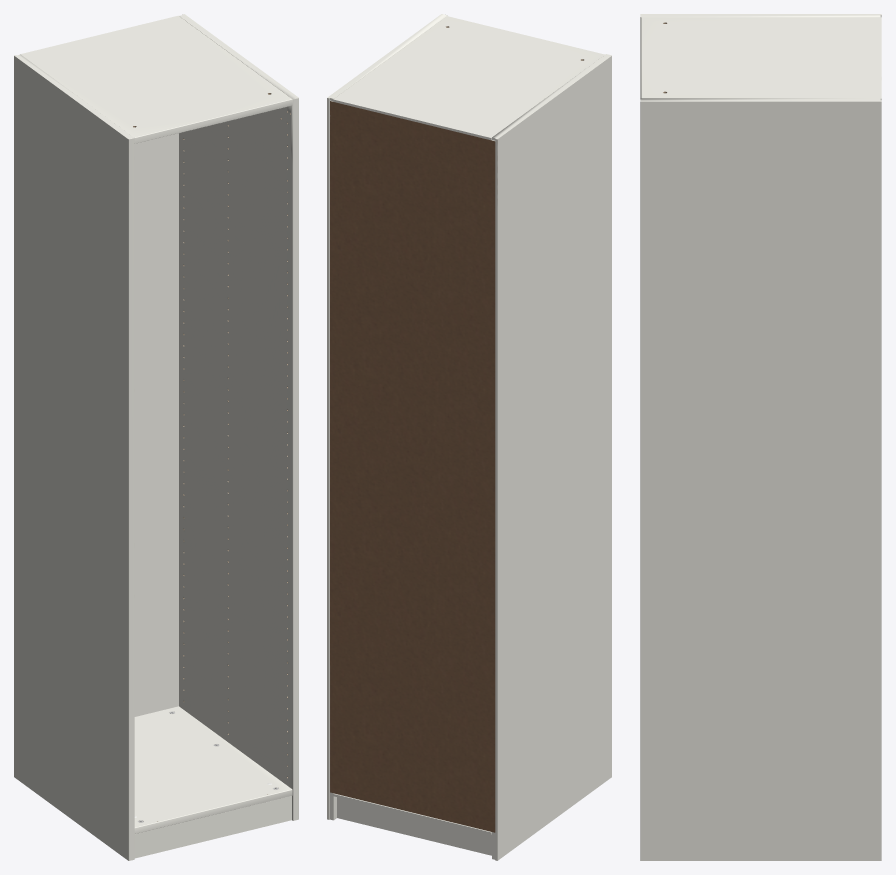
Rendered from 04 - PAX Wardrobe frame - white 50x58x201 cm.glb.
3 renders of one model, left to right at view 1: azimuth 30°, elevation 25°; view 2: azimuth 150°, elevation 25°; view 3: azimuth 270°, elevation 25°, orthographic. The views are drawn at different scales.
Parts seen in each view (by area): view 1: 70214559-PAX001; view 2: 70214559-PAX001; view 3: 70214559-PAX001.
Boxes of the visible parts, x1,y1,x2,y2 form: 70214559-PAX001: (14,14,298,860); 70214559-PAX001: (327,14,611,860); 70214559-PAX001: (640,14,881,860).
Bounding box in the file's own units: 0.4975 × 2.01 × 0.58.
1 material, 1 textured.
